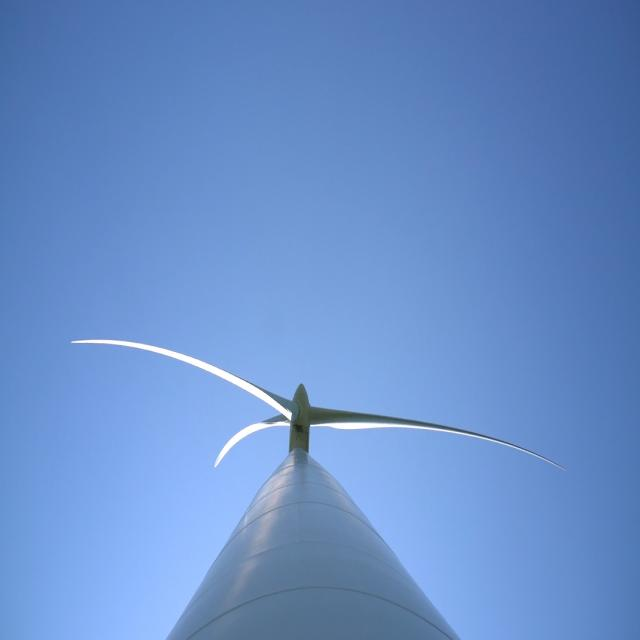blade 1: (155, 413, 273, 488)
blade 2: (65, 320, 284, 404)
blade 3: (331, 389, 551, 486)
